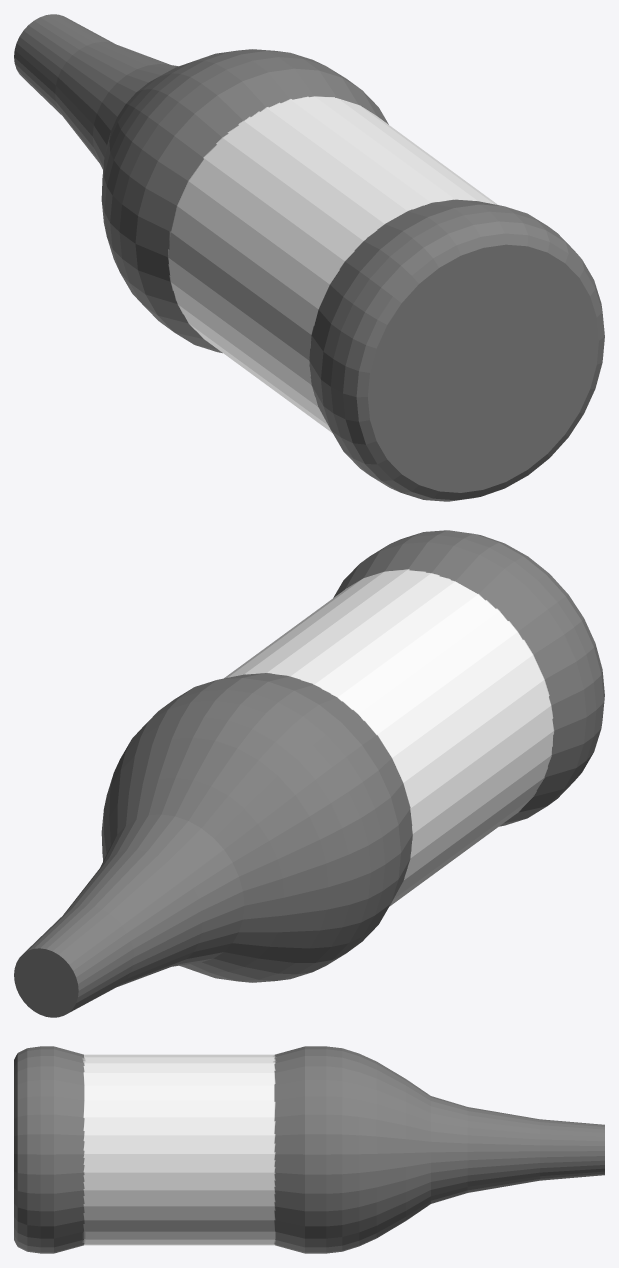
Rendered from bottle.dae.
3 renders of one model, top to bottom at view 1: azimuth 30°, elevation 25°; view 2: azimuth 150°, elevation 25°; view 3: azimuth 270°, elevation 25°, orthographic. The views are drawn at different scales.
Parts seen in each view (by area): view 1: Cylinder; view 2: Cylinder; view 3: Cylinder.
Part boxes in pixels (<box>): Cylinder: <box>14,14,604,501</box>; Cylinder: <box>14,530,604,1017</box>; Cylinder: <box>14,1046,604,1253</box>.
Bounding box in the file's own units: 0.2 × 0.5699 × 0.2.
